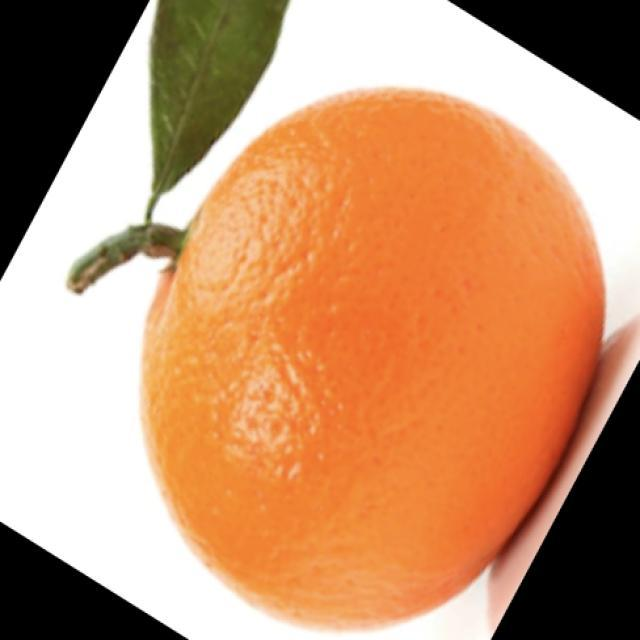Orange: (137, 85, 606, 632)
